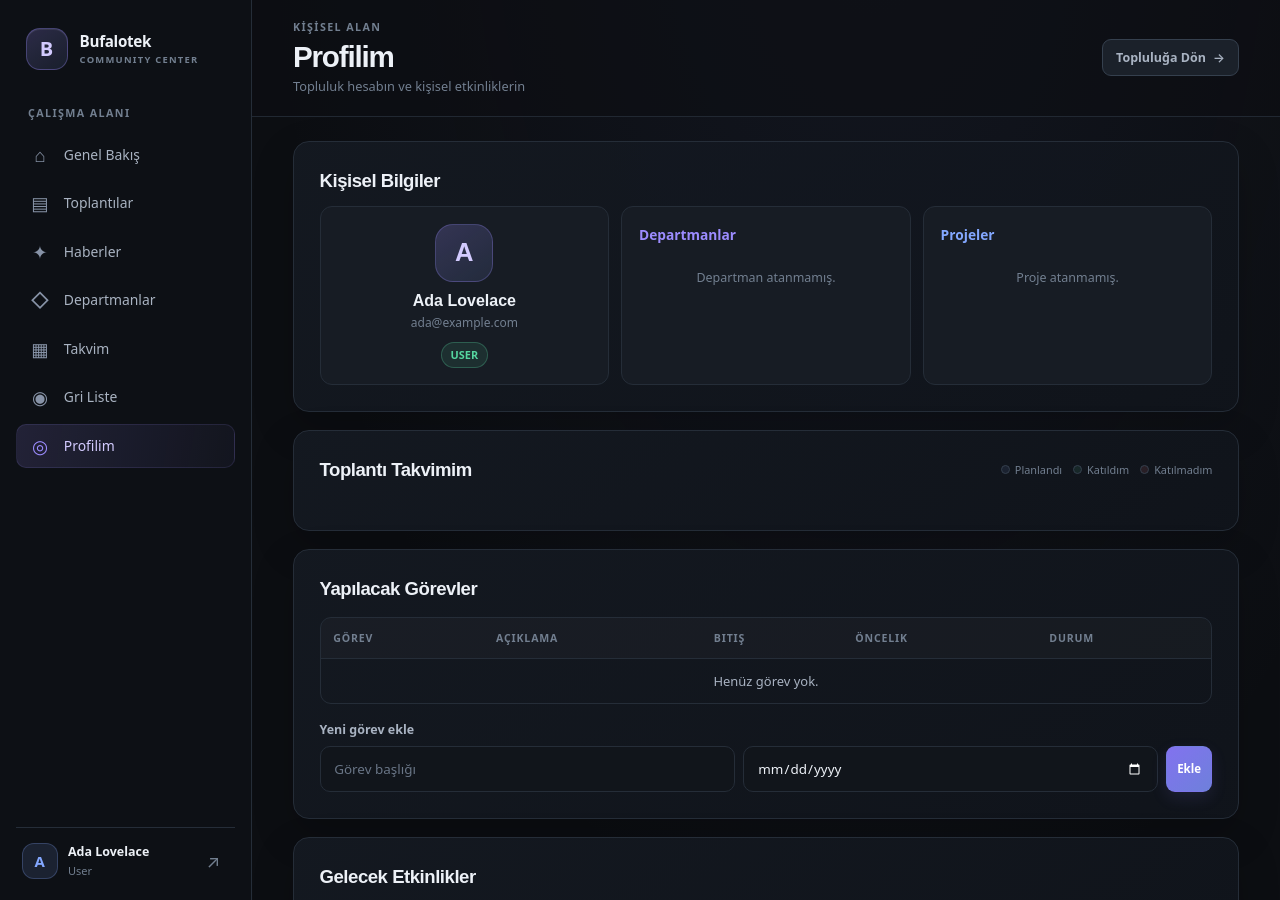
Test: keeps task input and shows a useful error when saving fails
Type "Plan workshop" into the field with placeholder "Görev başlığı". click: (527, 769)
box: [320,746,735,792]
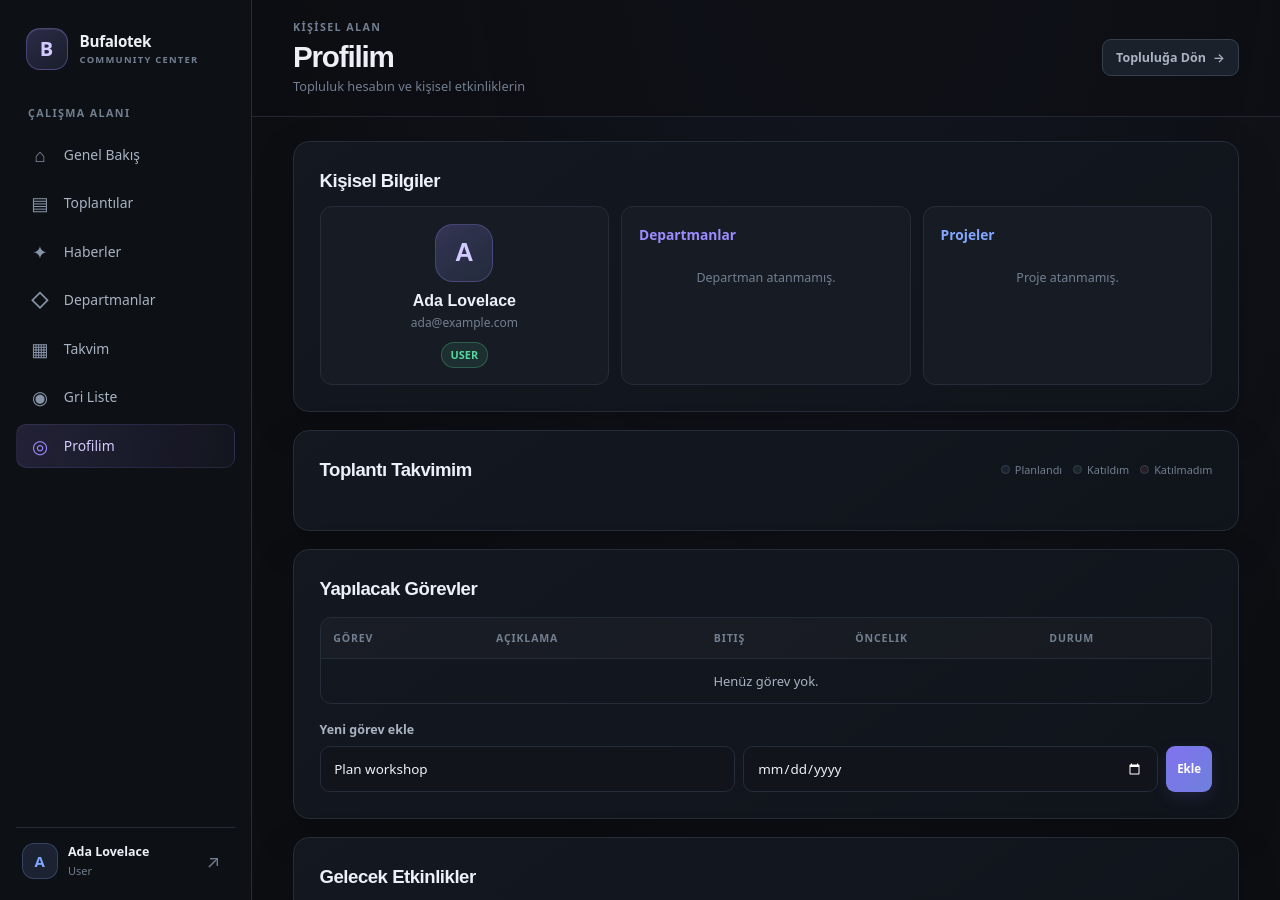
Click the button "Ekle". click: (1189, 769)
box: [1166,746,1212,792]
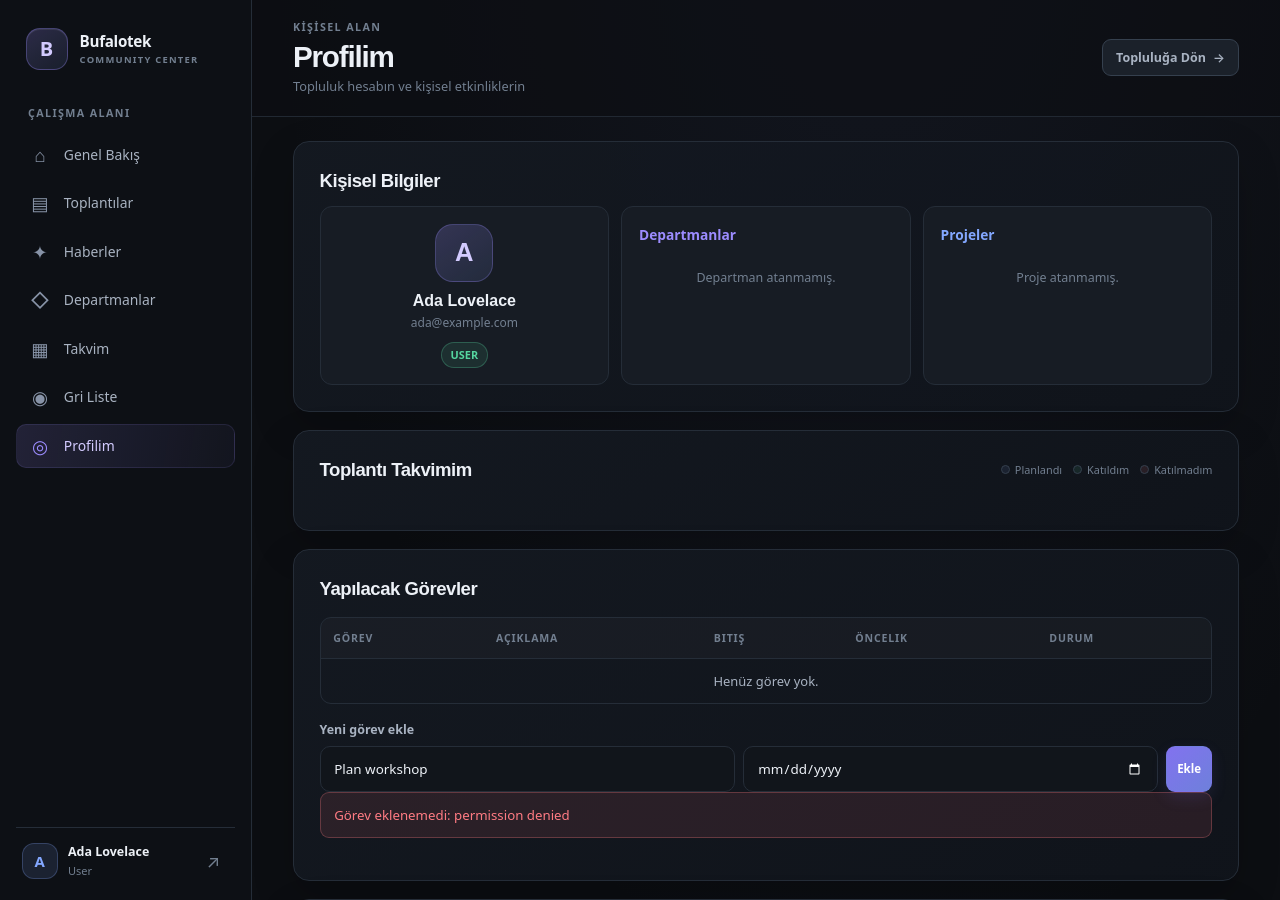
Result: the message reads "Görev eklenemedi: permission denied" at [334,806,570,824]
